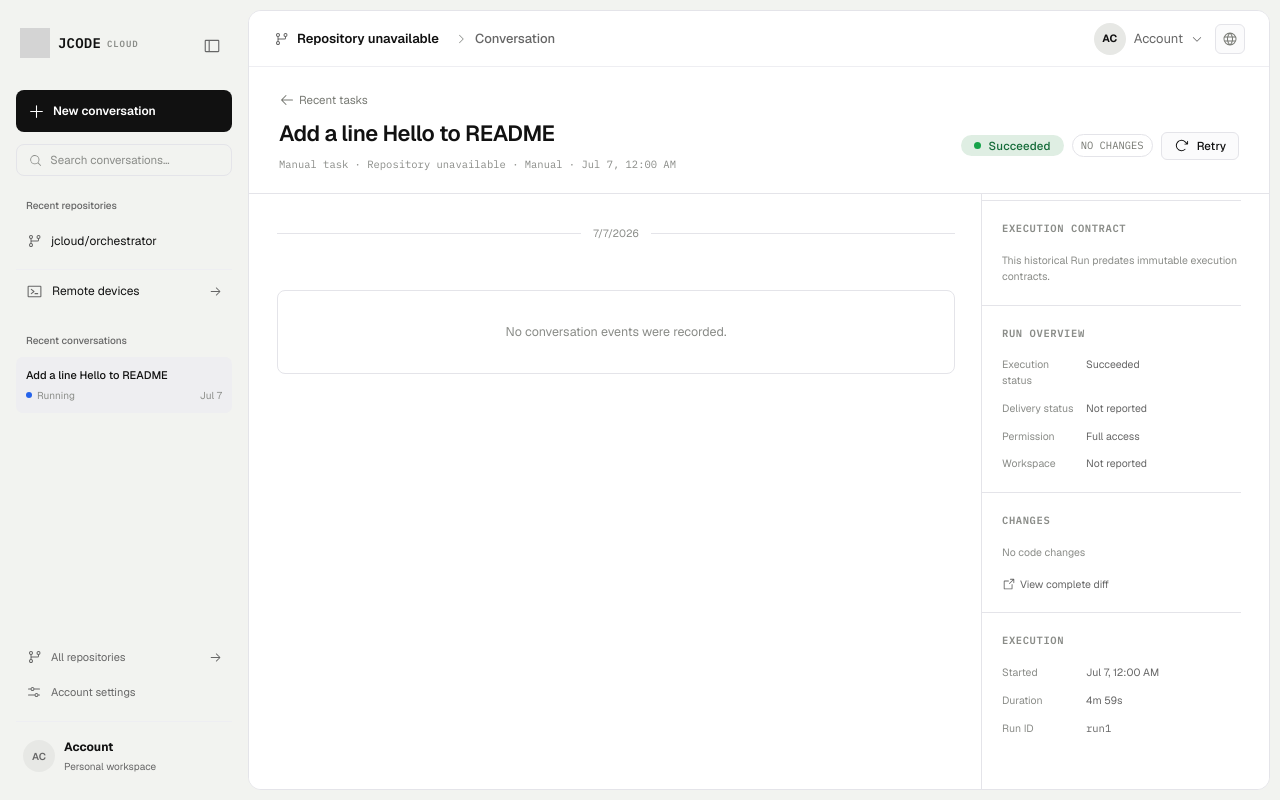
RunDetailPage — no_changes result (D18/D26) › shows the "No changes" badge and the diff-tab empty state, without fetching the diff
(page scrolled)
Expected: the text "No changes" is shown, x1=1072 y1=134 x2=1153 y2=157
Click the button with test id "tab-diff": (1055, 584) x1=1002 y1=576 x2=1109 y2=592
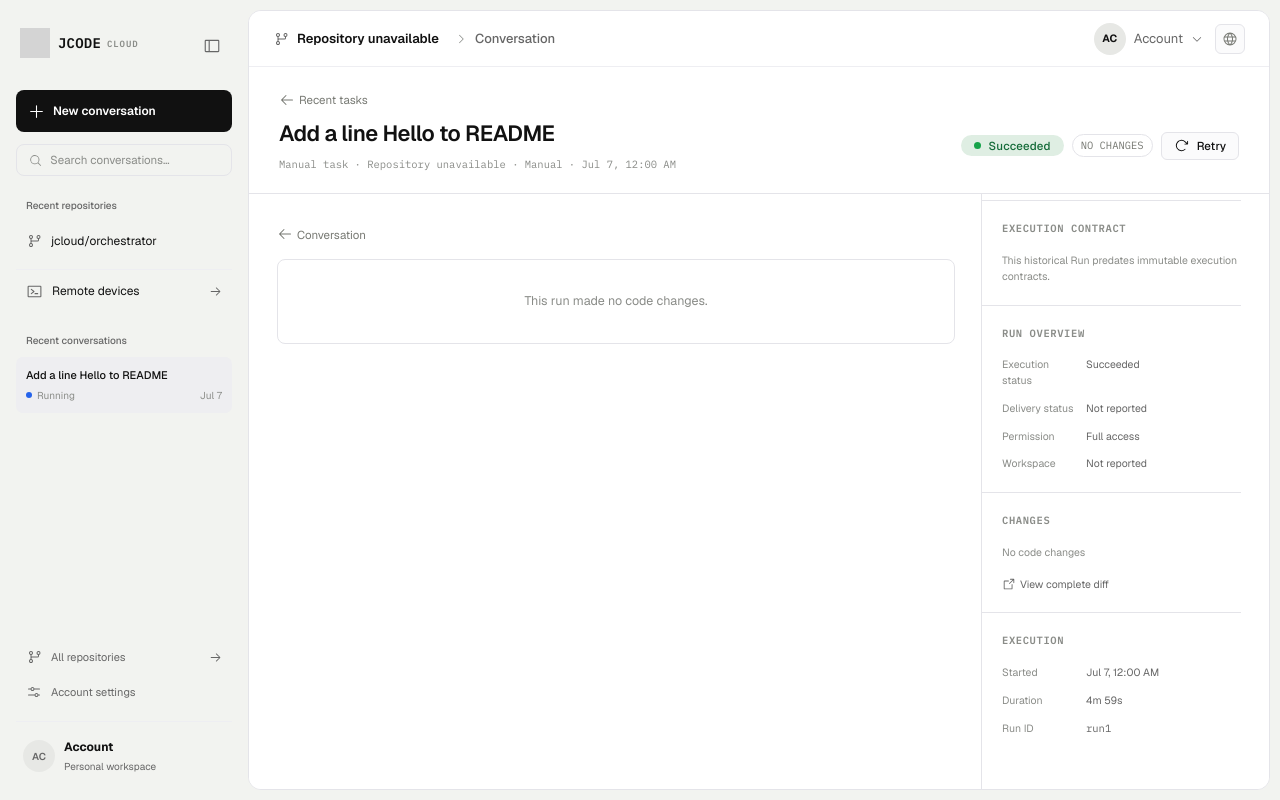
Now the text "This run made no code changes." is shown, box x1=277 y1=259 x2=955 y2=344
